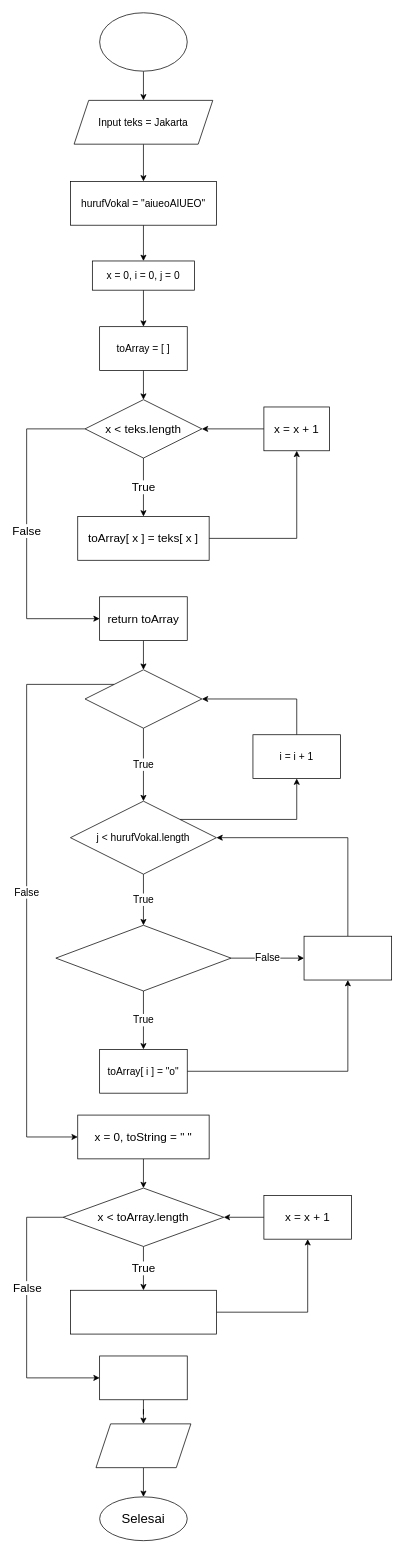
This 404x1553 diagram has some shape labels left out. The shapes that lost their labels are listed below. From the top down, each one's centre as x and y in pixels, then its label:
[143,41]: Mulai
[143,698]: i < toArray.length
[143,958]: toArray[ i ] === hurufVokal[ j ]
[347,957]: j = j + 1
[143,1312]: toString += toArray[ x ]
[143,1377]: return toString
[143,1445]: Output "Jokorto"
